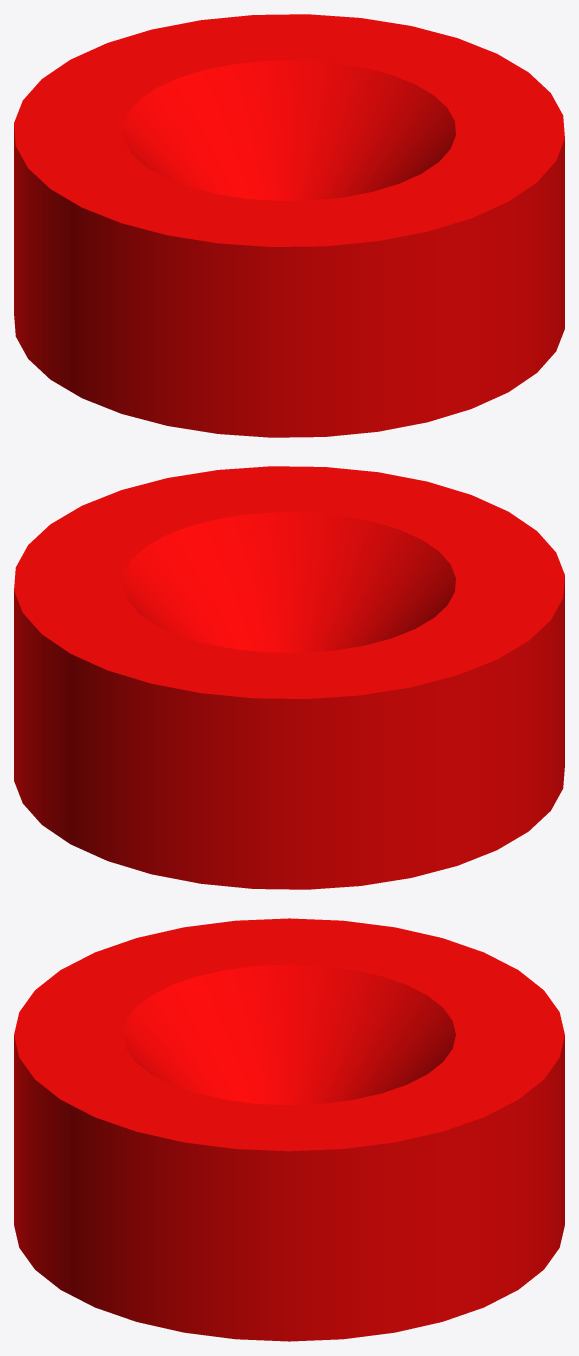
Rendered from block.gltf.
3 views of the same model, one above another, from view 1: azimuth 30°, elevation 25°; view 2: azimuth 150°, elevation 25°; view 3: azimuth 270°, elevation 25° (orthographic).
Visible parts, largest first — view 1: Block; view 2: Block; view 3: Block.
Part boxes in pixels (x1,y1,x2,y2): Block: (14, 14, 564, 437); Block: (14, 466, 564, 889); Block: (14, 918, 564, 1341).
Size of the model in its own units: 0.0367 by 0.019 by 0.0367.
